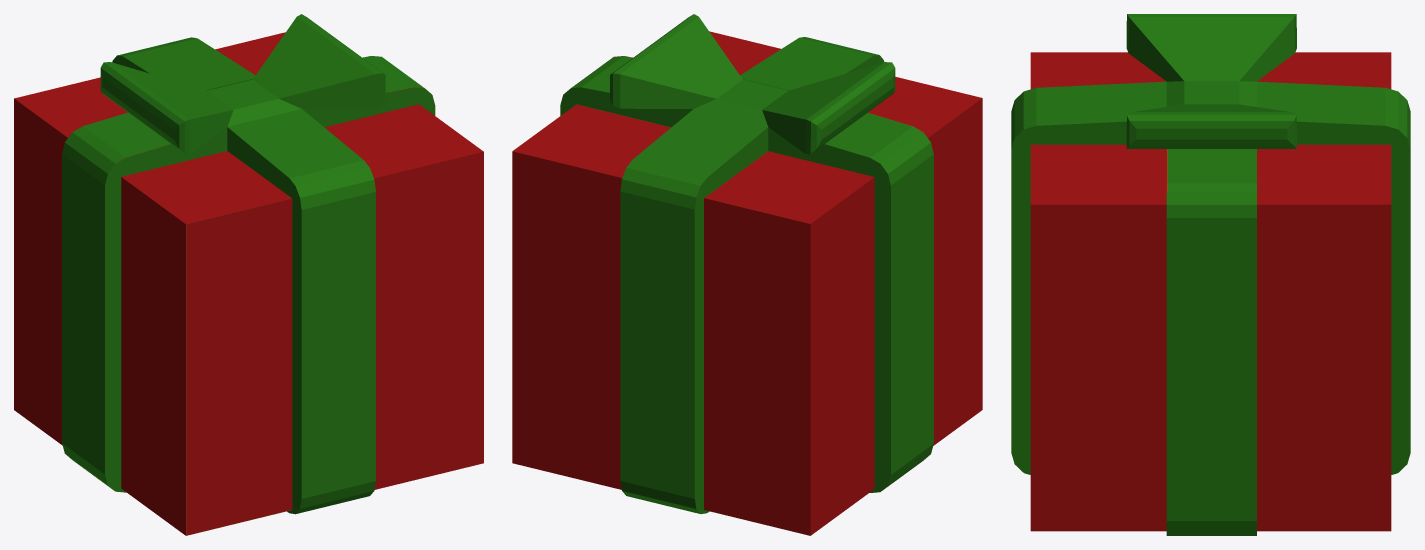
The model's file is CadeauTextured 1.fbx.
The picture shows the model from 3 angles, left to right: view 1: azimuth 30°, elevation 25°; view 2: azimuth 150°, elevation 25°; view 3: azimuth 270°, elevation 25°; orthographic projection. The views are drawn at different scales.
Visible parts, largest first — view 1: Cube; view 2: Cube; view 3: Cube.
Boxes of the visible parts, x1=… form: Cube: x1=14, y1=14, x2=483, y2=535; Cube: x1=512, y1=14, x2=982, y2=535; Cube: x1=1011, y1=14, x2=1410, y2=535.
Size of the model in its own units: 454 by 501 by 454.
Materials: 1 (1 with a texture image).
